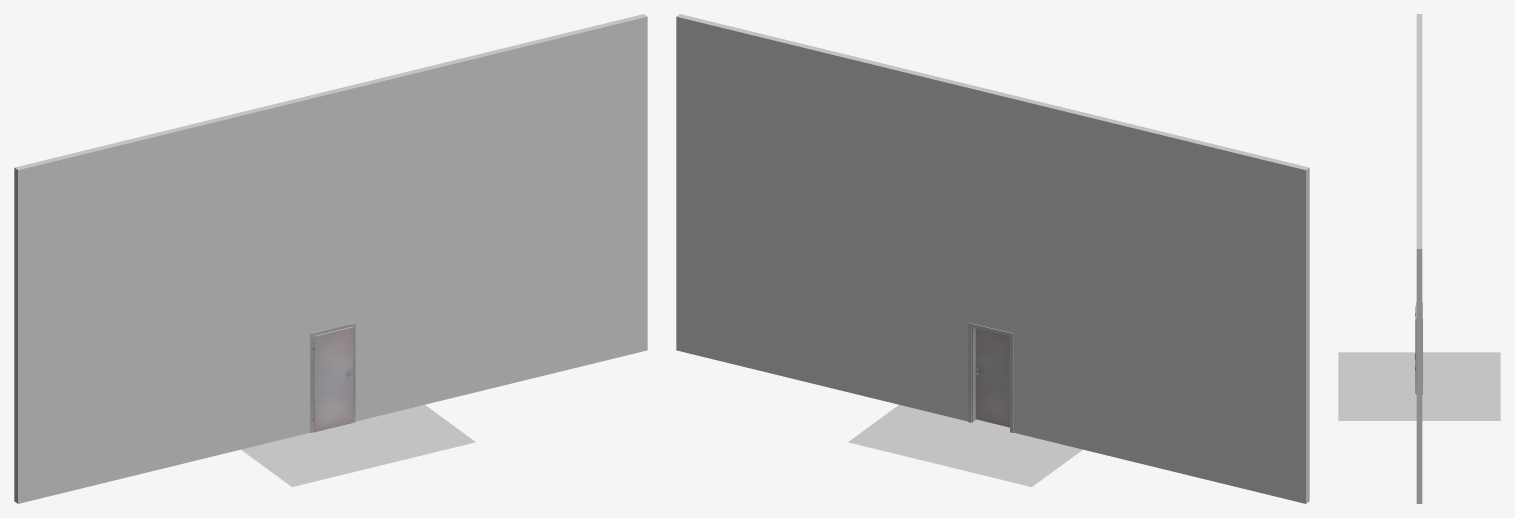
The model's file is wall.fbx.
The picture shows the model from 3 angles, left to right: view 1: azimuth 30°, elevation 25°; view 2: azimuth 150°, elevation 25°; view 3: azimuth 270°, elevation 25°; orthographic projection. The views are drawn at different scales.
Parts seen in each view (by area): view 1: Plane_004, Plane, Plane_001, Plane_002; view 2: Plane_004, Plane, Plane_001, Plane_002; view 3: Plane, Plane_004.
Part boxes in pixels (<box>): Plane_004: <box>14,14,647,503</box>; Plane: <box>241,405,475,486</box>; Plane_001: <box>313,326,352,432</box>; Plane_002: <box>310,322,355,432</box>; Plane_004: <box>676,14,1309,503</box>; Plane: <box>848,405,1082,486</box>; Plane_001: <box>975,328,1009,427</box>; Plane_002: <box>968,322,1013,432</box>; Plane: <box>1338,352,1500,420</box>; Plane_004: <box>1416,14,1422,503</box>.
Size of the model in its own units: 13.68 by 6.93 by 4.
